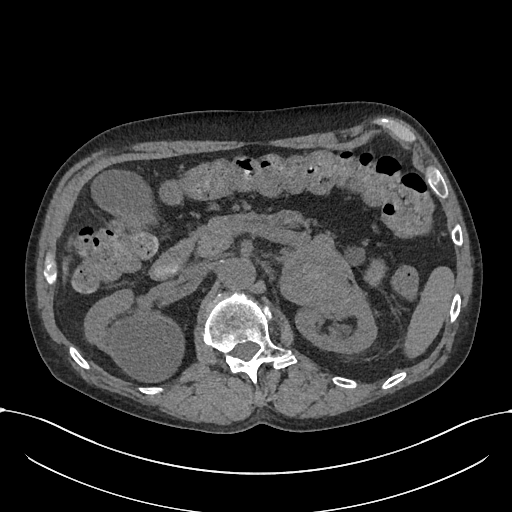Lesion: (278, 239, 359, 310)
